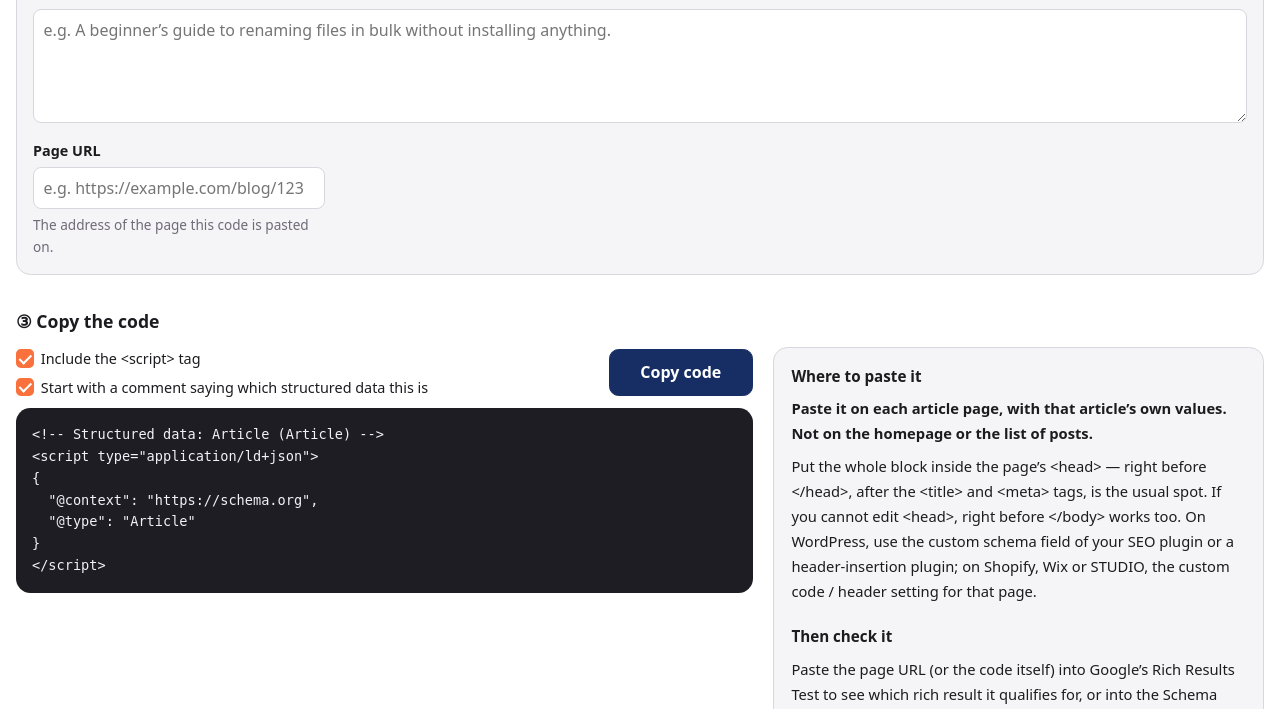
Test: StructuredDataTool › drops the script tag, and the comment with it, when asked
(page scrolled)
Expected: the checkbox labelled "Start with a comment saying which structured data this is" is enabled, [16, 378, 34, 396]
Click the checkbox labelled "Include the <script> tag" at (25, 359), box [16, 349, 34, 368]
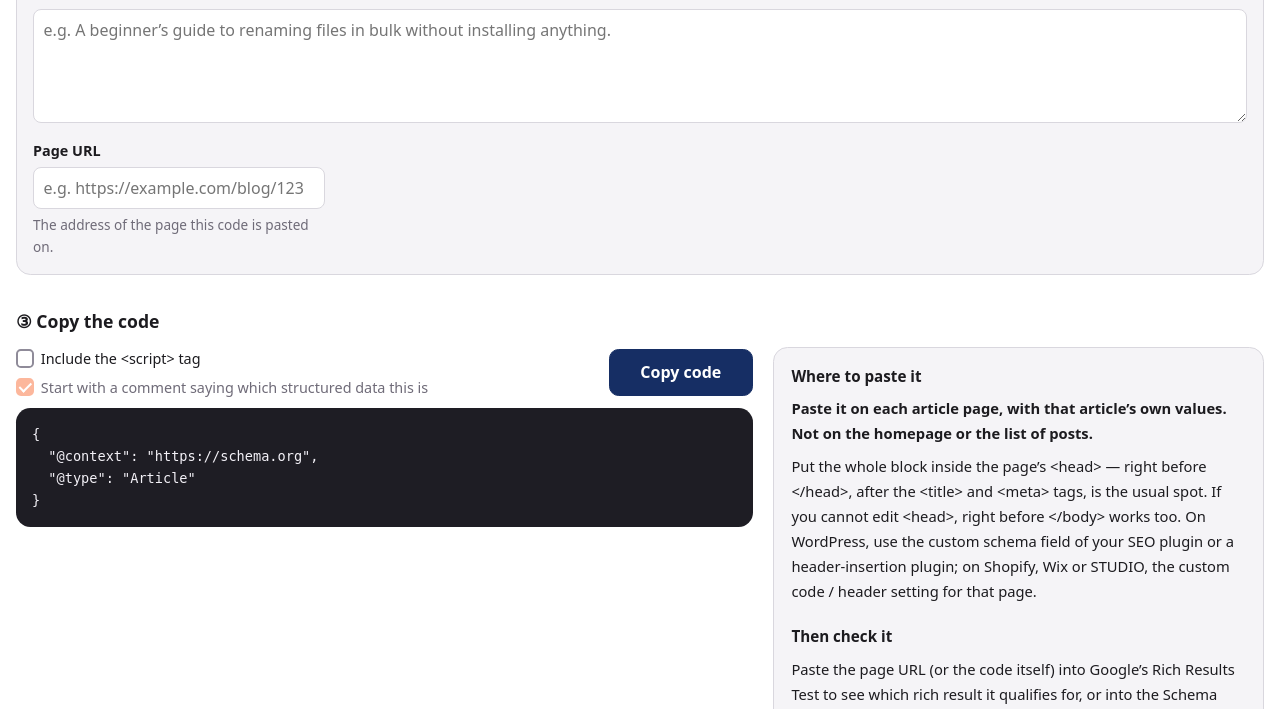
Expected: the checkbox labelled "Start with a comment saying which structured data this is" is disabled, [16, 378, 34, 396]
